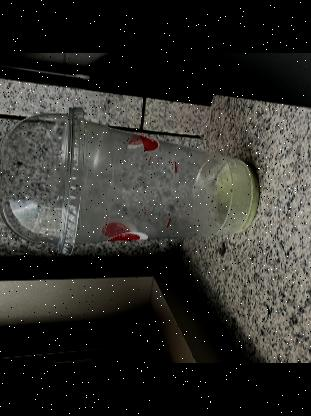Others: (0, 105, 260, 258), (0, 102, 86, 254)
